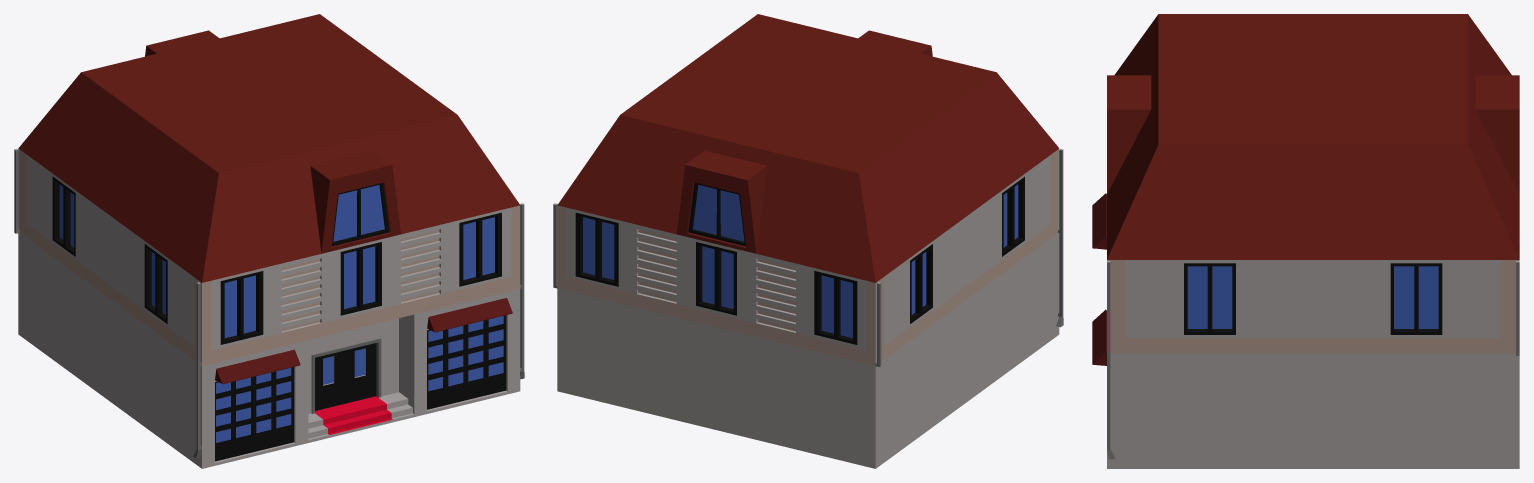
The model's file is Building5.fbx.
The picture shows the model from 3 angles, left to right: view 1: azimuth 30°, elevation 25°; view 2: azimuth 150°, elevation 25°; view 3: azimuth 270°, elevation 25°; orthographic projection. The views are drawn at different scales.
Parts seen in each view (by area): view 1: Building5Roof, Buiding5Ground, Building5Upper; view 2: Building5Roof, Buiding5Ground, Building5Upper; view 3: Building5Roof, Buiding5Ground, Building5Upper.
Boxes of the visible parts, x1=… form: Building5Roof: x1=18, y1=14, x2=519, y2=282; Buiding5Ground: x1=18, y1=233, x2=524, y2=468; Building5Upper: x1=14, y1=148, x2=524, y2=366; Building5Roof: x1=557, y1=14, x2=1059, y2=282; Buiding5Ground: x1=557, y1=233, x2=1063, y2=468; Building5Upper: x1=553, y1=149, x2=1063, y2=366; Building5Roof: x1=1107, y1=14, x2=1519, y2=259; Buiding5Ground: x1=1092, y1=193, x2=1519, y2=468; Building5Upper: x1=1107, y1=260, x2=1519, y2=355.
Size of the model in its own units: 1238 by 970 by 1242.
